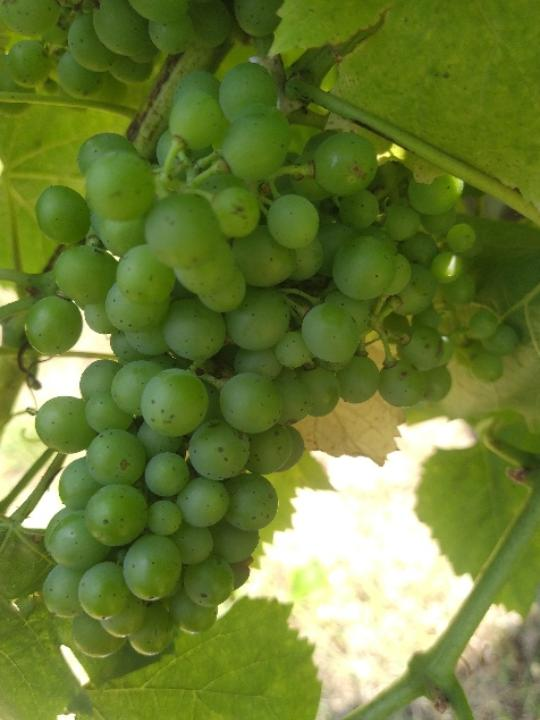grape: (22, 59, 522, 666)
